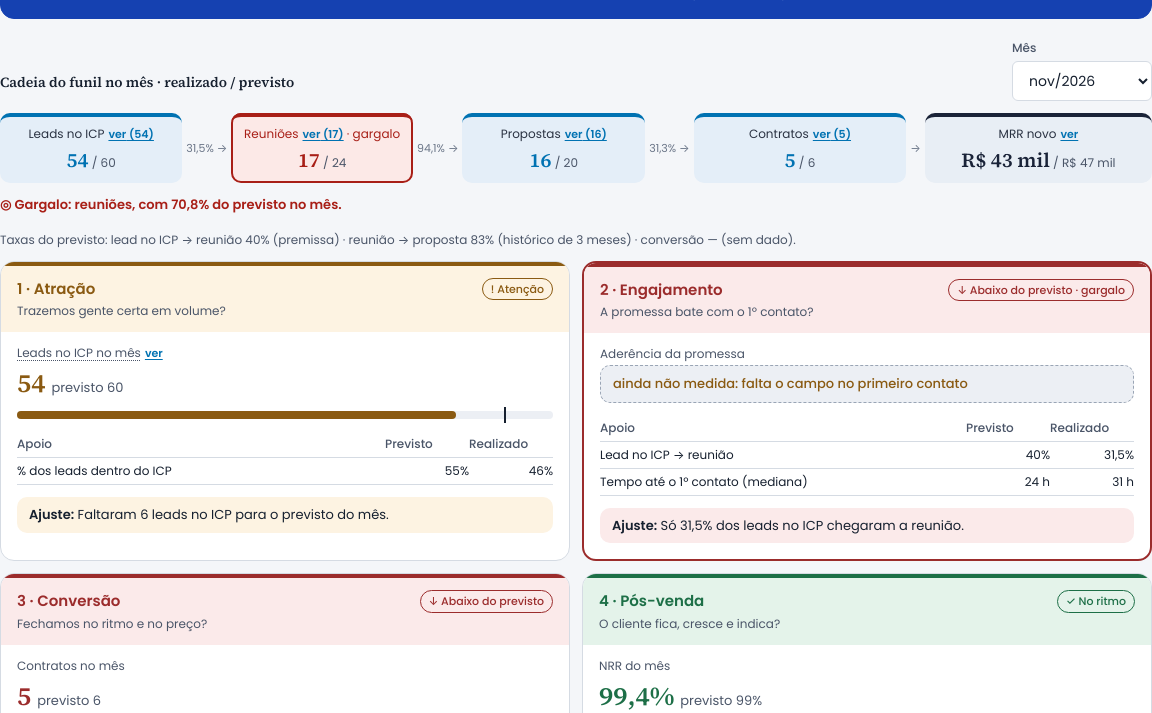
Funil › Inteligência de Conversão › quatro fases: explicação ao passar o mouse e 'ver' com a lista que compõe o número (10/10/2026)
The image size is (1152, 713).
(page scrolled)
Click the button with aria-label "Ver composição: Leads no ICP no mês": (154, 353) [145,345,163,362]
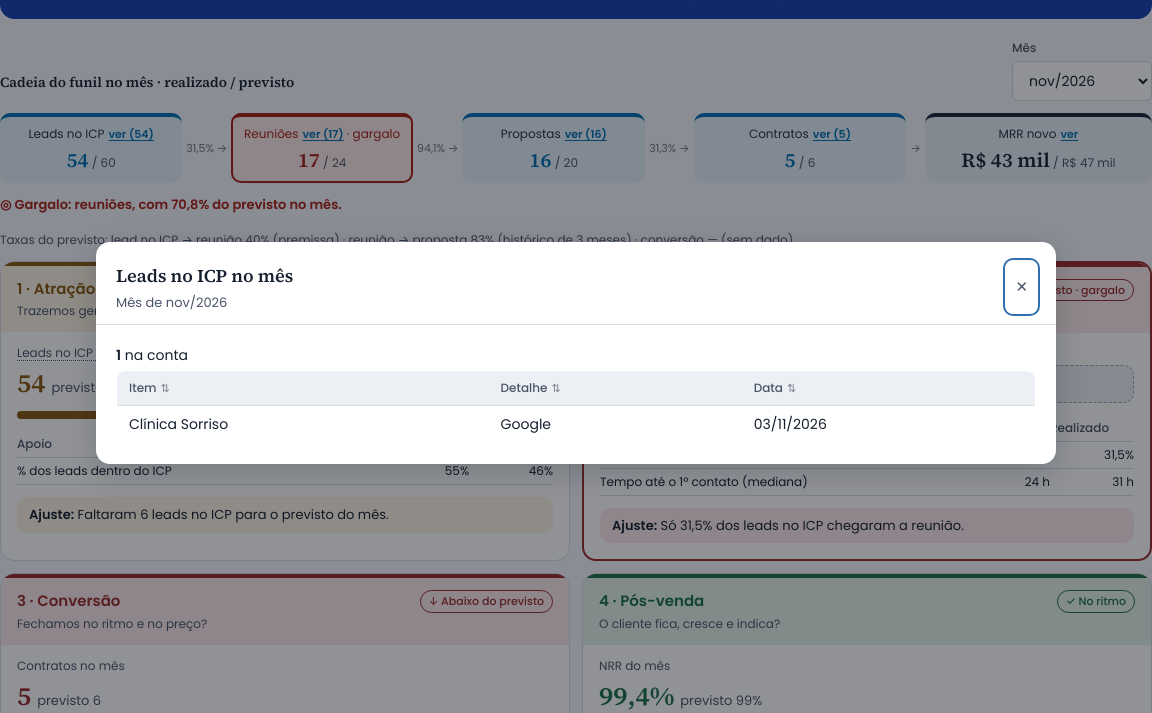
Expected: the text "Clínica Sorriso" is shown, [116,406,489,444]
